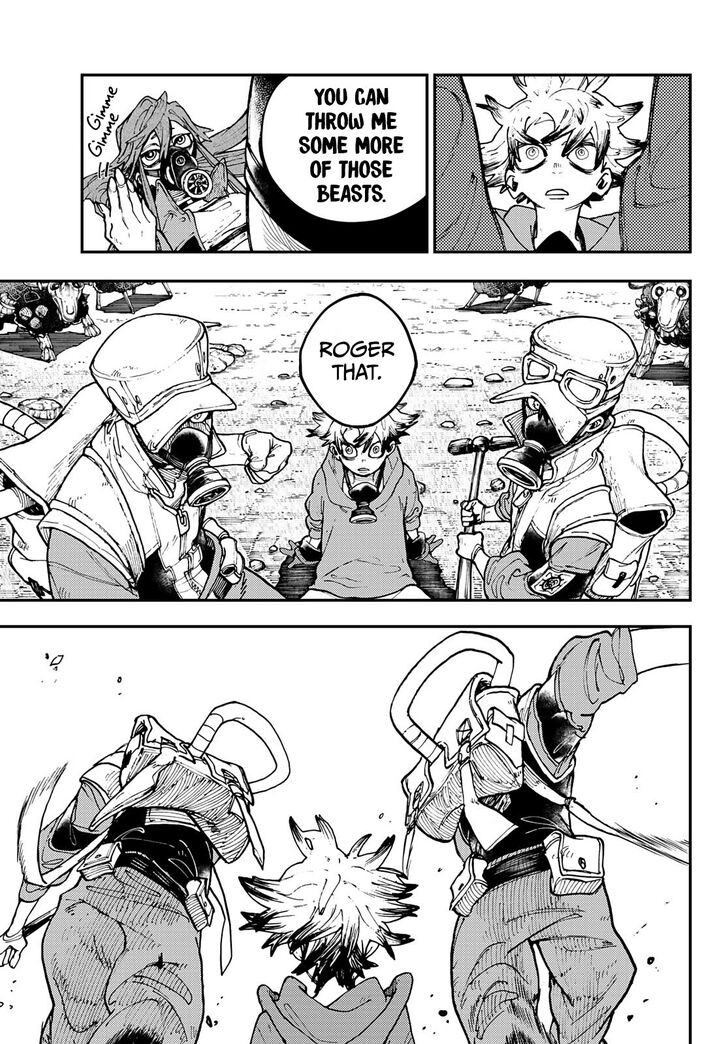bubble: (260, 73, 428, 224), (299, 293, 418, 428)
